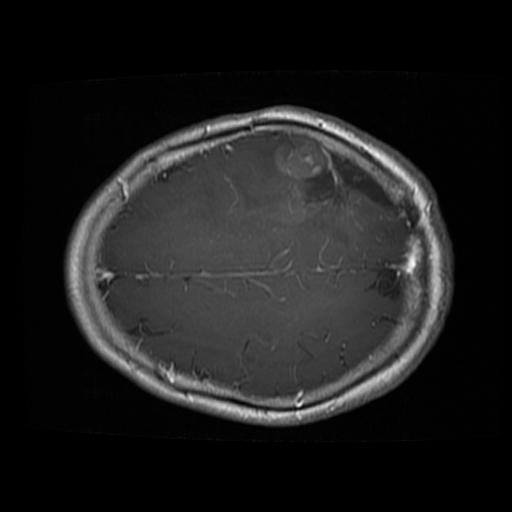glioma: (267, 133, 404, 216)
